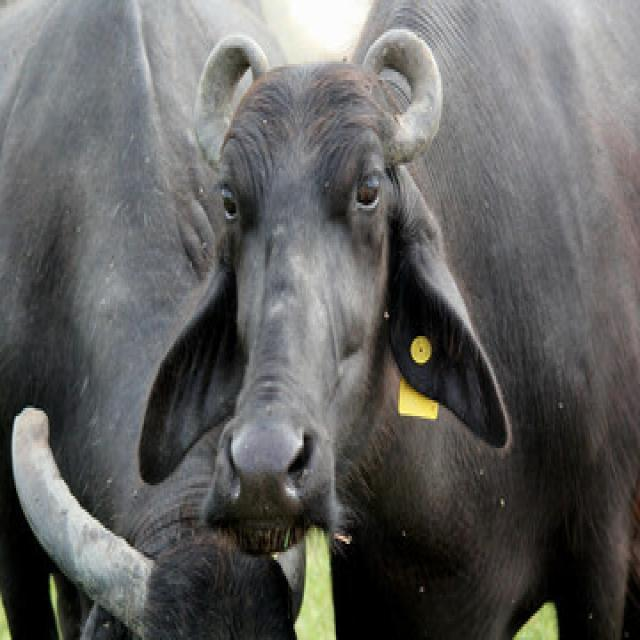Buffalo: (138, 20, 640, 565)
